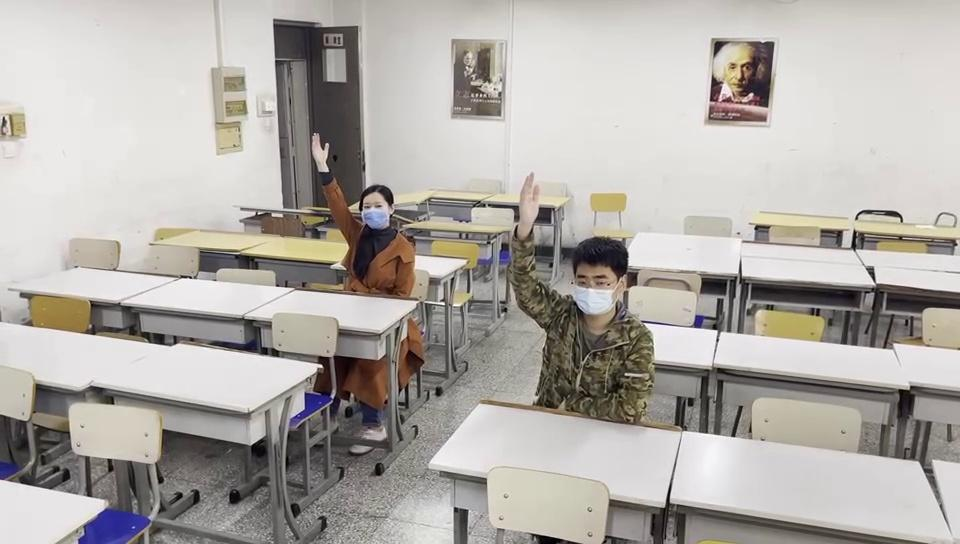study: (512, 174, 652, 401), (312, 132, 414, 289)
